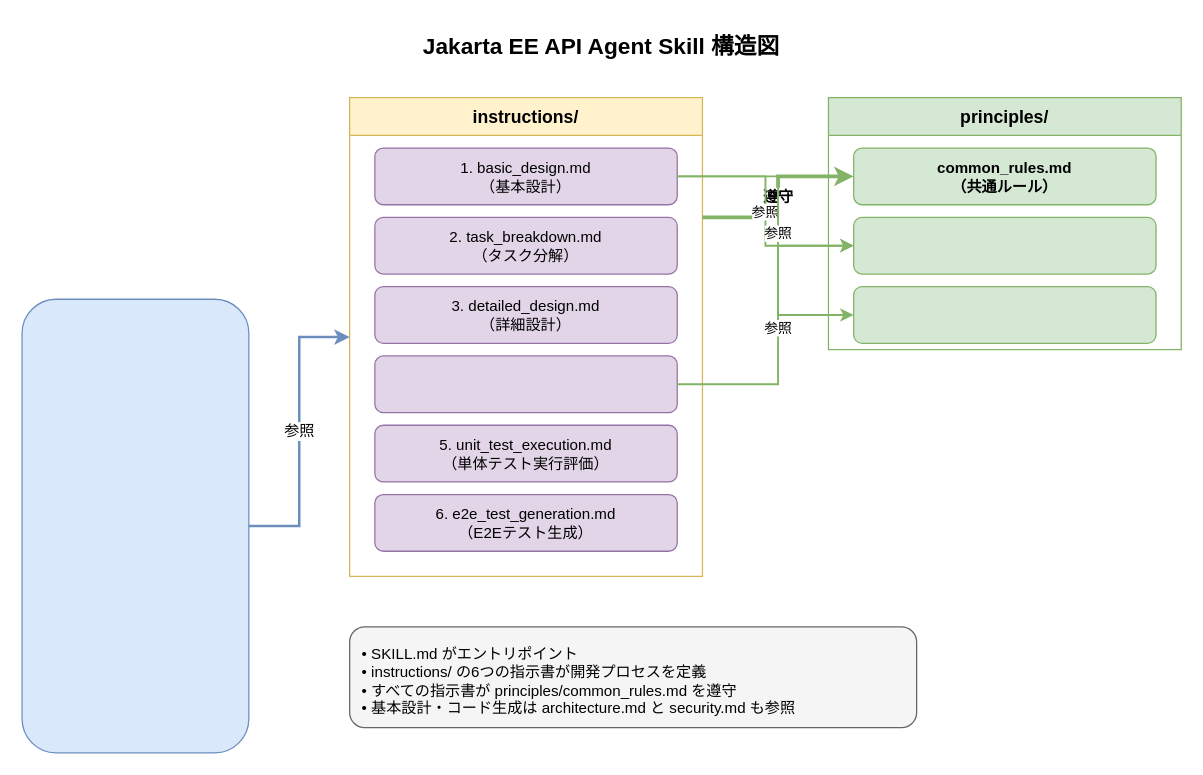
Some shapes in this 1203 by 775 pixel diagram are drawn without their labels. Each missing label, with the centre of its shape:
4. code_generation.md （コード生成）: [525,384]
architecture.md （アーキテクチャ標準）: [1004,245]
security.md （セキュリティ標準）: [1004,314]
SKILL.md エントリポイント 6段階プロセス 使い方・実践例: [135,525]
